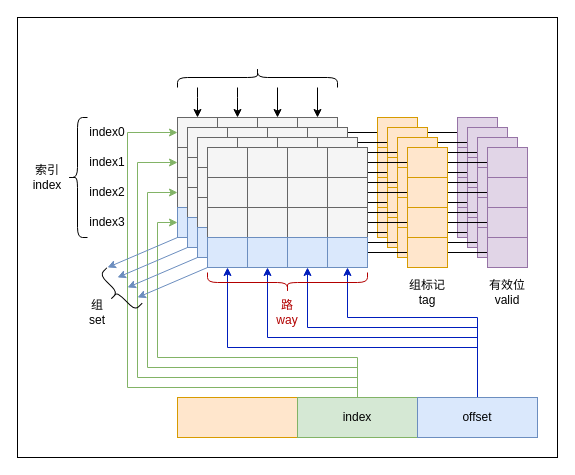
The diagram is 575 pixels wide and 475 high, and some of its shapes have lost their labels. The centre of each missing label's shape, as x and y in pixels:
tag: the point at 237,417
高速缓存行 data block: the point at 257,77
